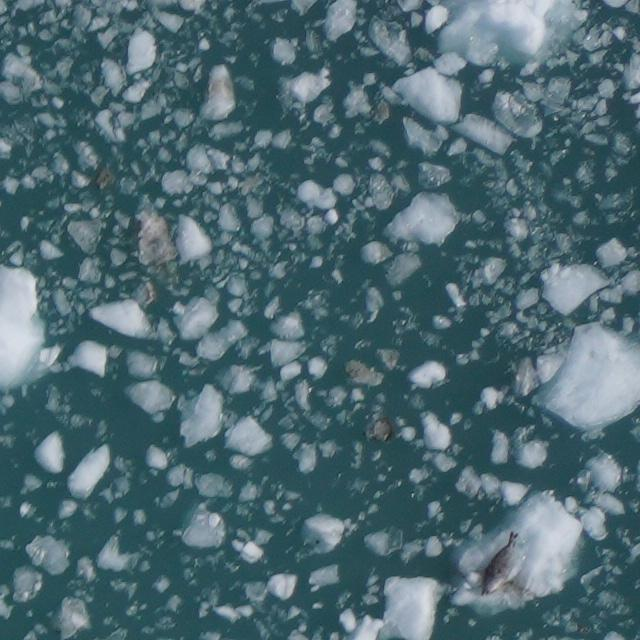seal: (470, 529, 531, 602)
